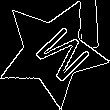M_SW: (18, 18, 87, 86)
